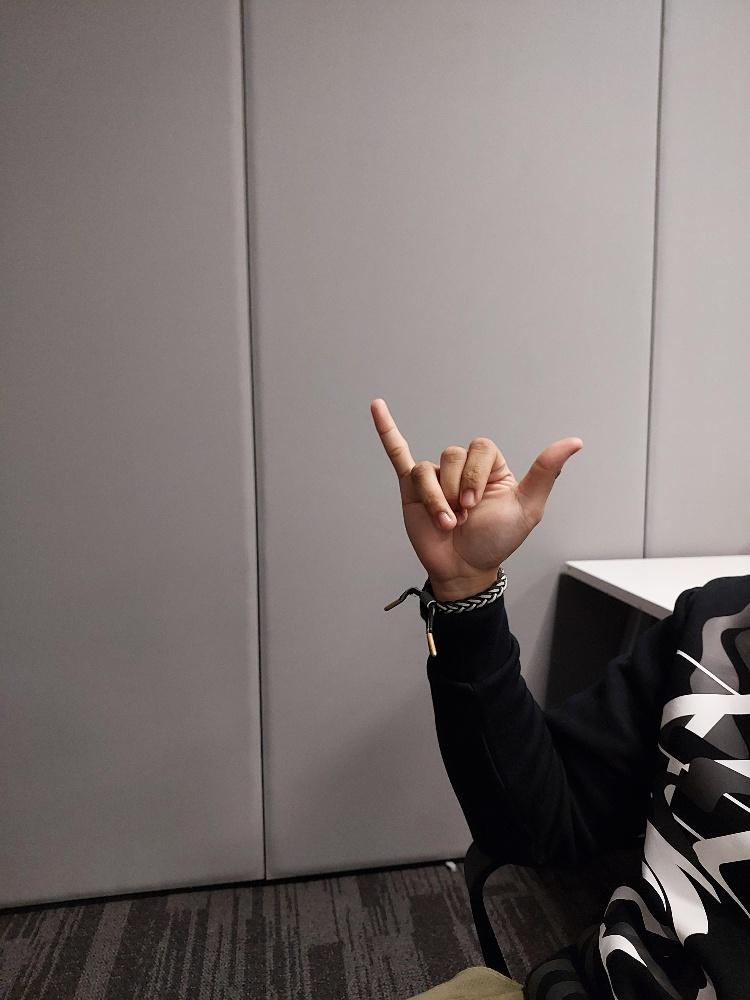y: (368, 394, 584, 583)
